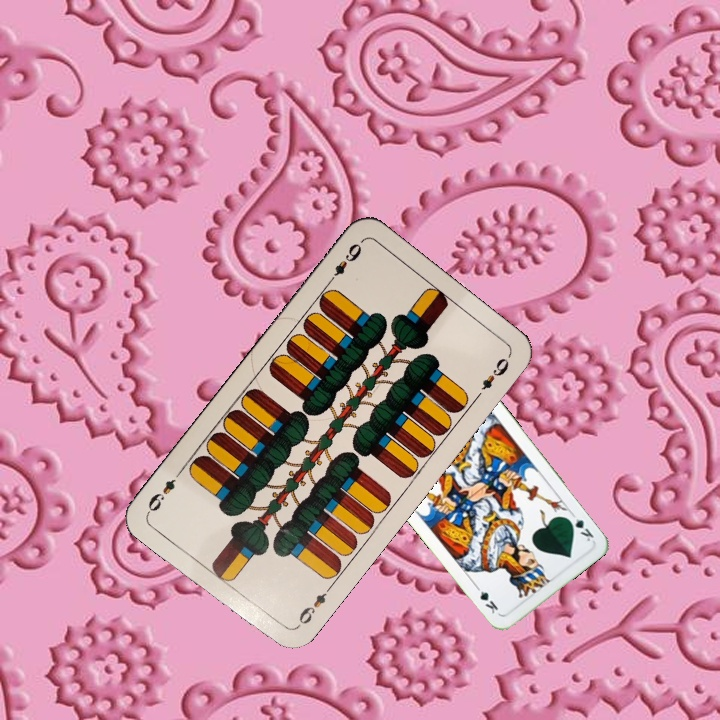E9: (292, 582, 334, 631), (323, 239, 365, 287)
GK: (563, 508, 597, 544)
